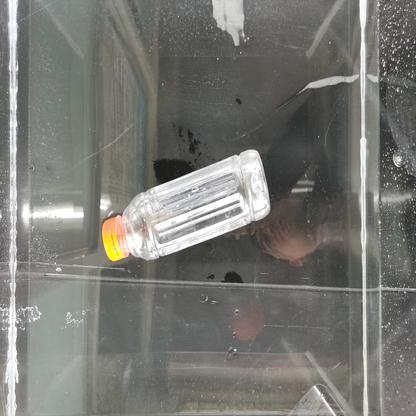plastic bottle: (100, 148, 273, 263)
